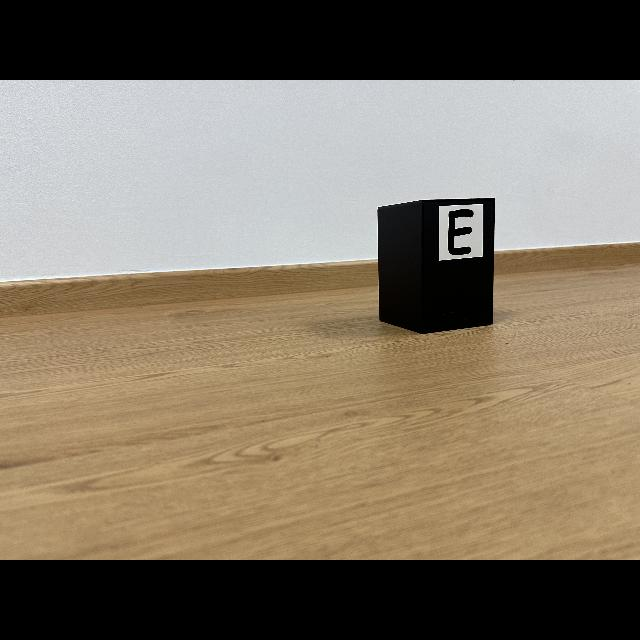E: (448, 209, 474, 255)
